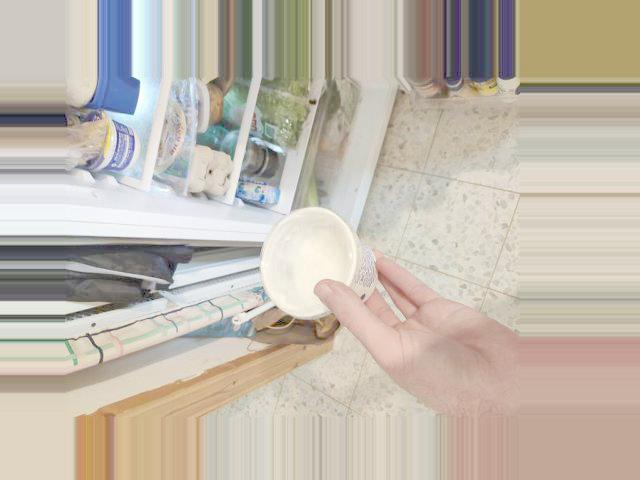cotage: (255, 227, 377, 323)
